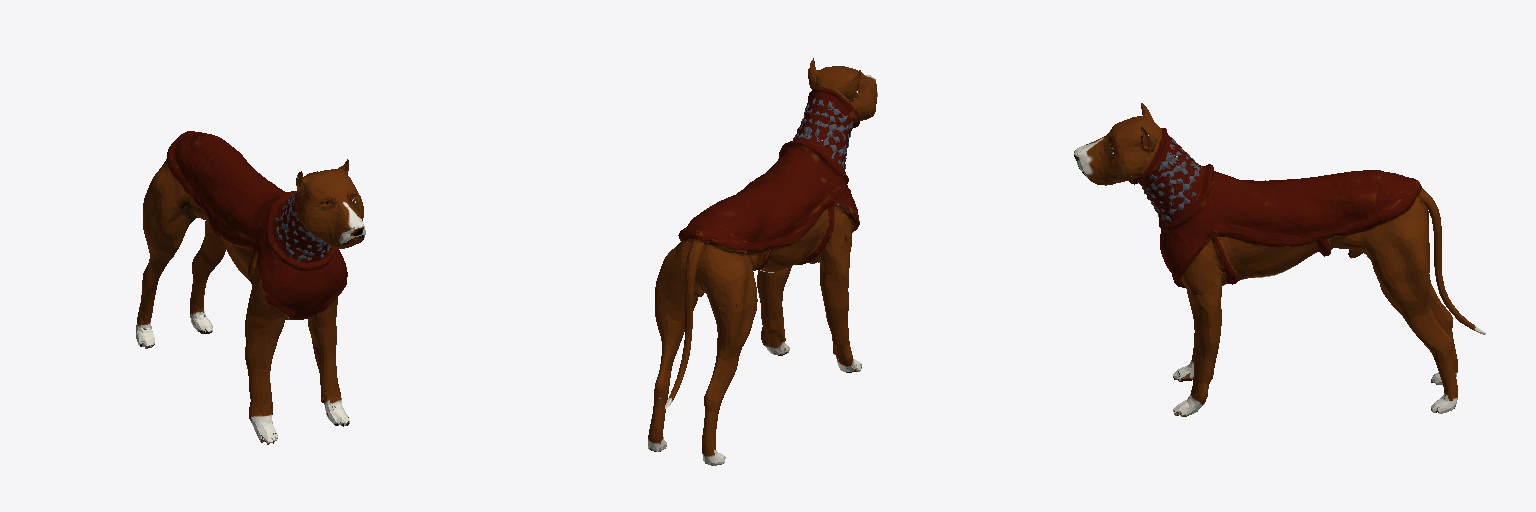
3 renders of one model, left to right at view 1: azimuth 30°, elevation 25°; view 2: azimuth 150°, elevation 25°; view 3: azimuth 270°, elevation 25°, orthographic.
Parts seen in each view (by area): view 1: Corpo5, studs; view 2: Corpo5, studs; view 3: Corpo5, studs.
Part boxes in pixels (bbox=[...]): Corpo5: bbox=[136, 131, 365, 444]; studs: bbox=[275, 191, 330, 260]; Corpo5: bbox=[648, 58, 877, 465]; studs: bbox=[793, 99, 853, 168]; Corpo5: bbox=[1074, 103, 1485, 416]; studs: bbox=[1141, 137, 1200, 221].
Size of the model in its own units: 8.51 by 25.32 by 33.43.
1 materials, 1 textured.